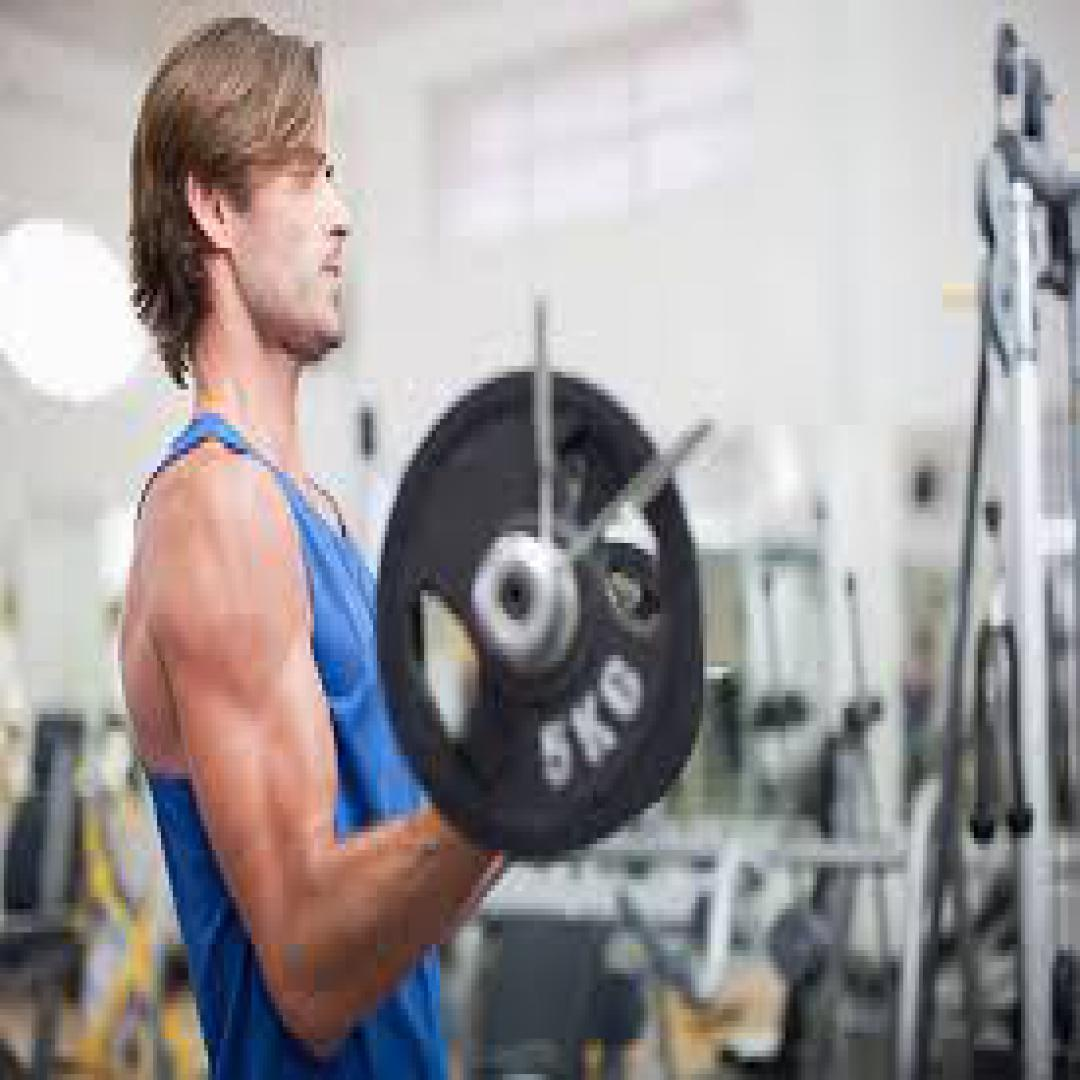Bar: (468, 525, 566, 673)
Barbell: (377, 371, 699, 862)
